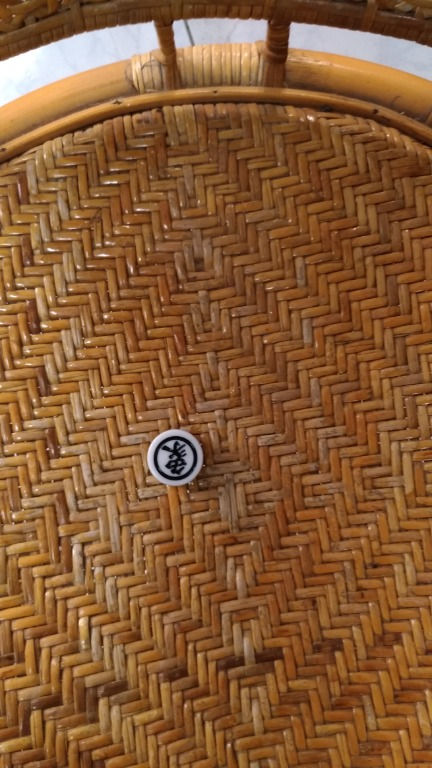b-elephant: (146, 430, 208, 492)
